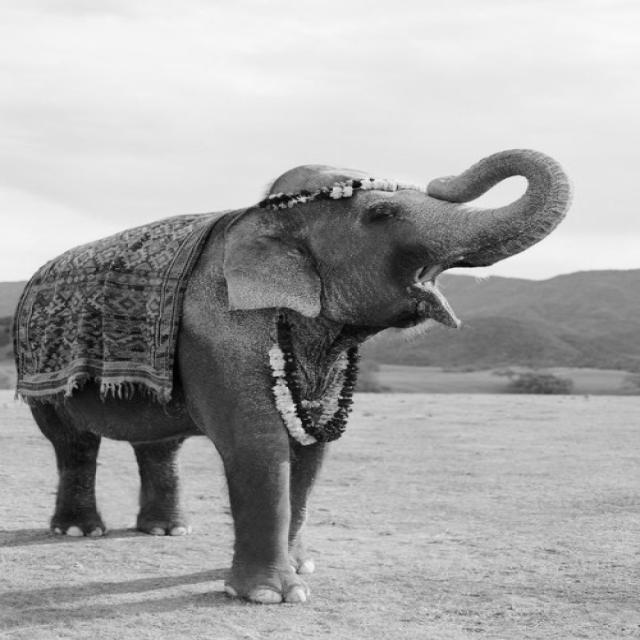Elephant: (11, 147, 574, 605)
